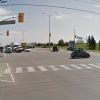crosswalk: (0, 63, 99, 76)
